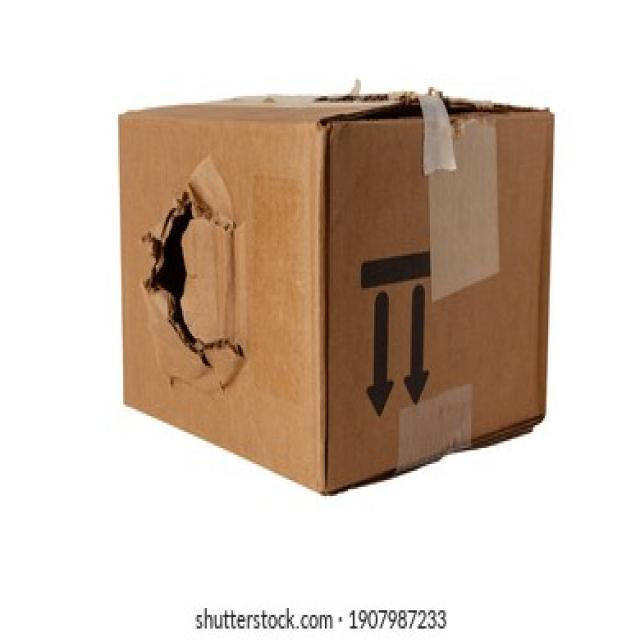hole: (142, 187, 255, 390)
